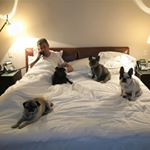puppy: (9, 94, 58, 132), (114, 63, 147, 103), (84, 51, 113, 85), (47, 65, 76, 88)
